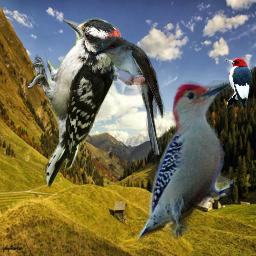Cuckoo: (93, 36, 165, 155)
Woodpecker: (135, 80, 234, 244), (28, 15, 121, 188), (225, 56, 253, 110)
